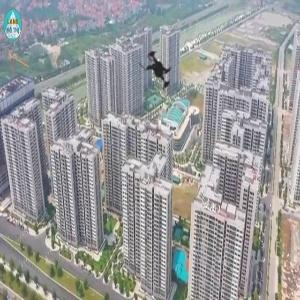drone: (123, 29, 201, 107)
